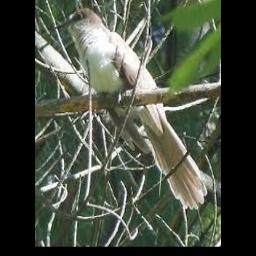Cuckoo: (54, 8, 207, 209)
